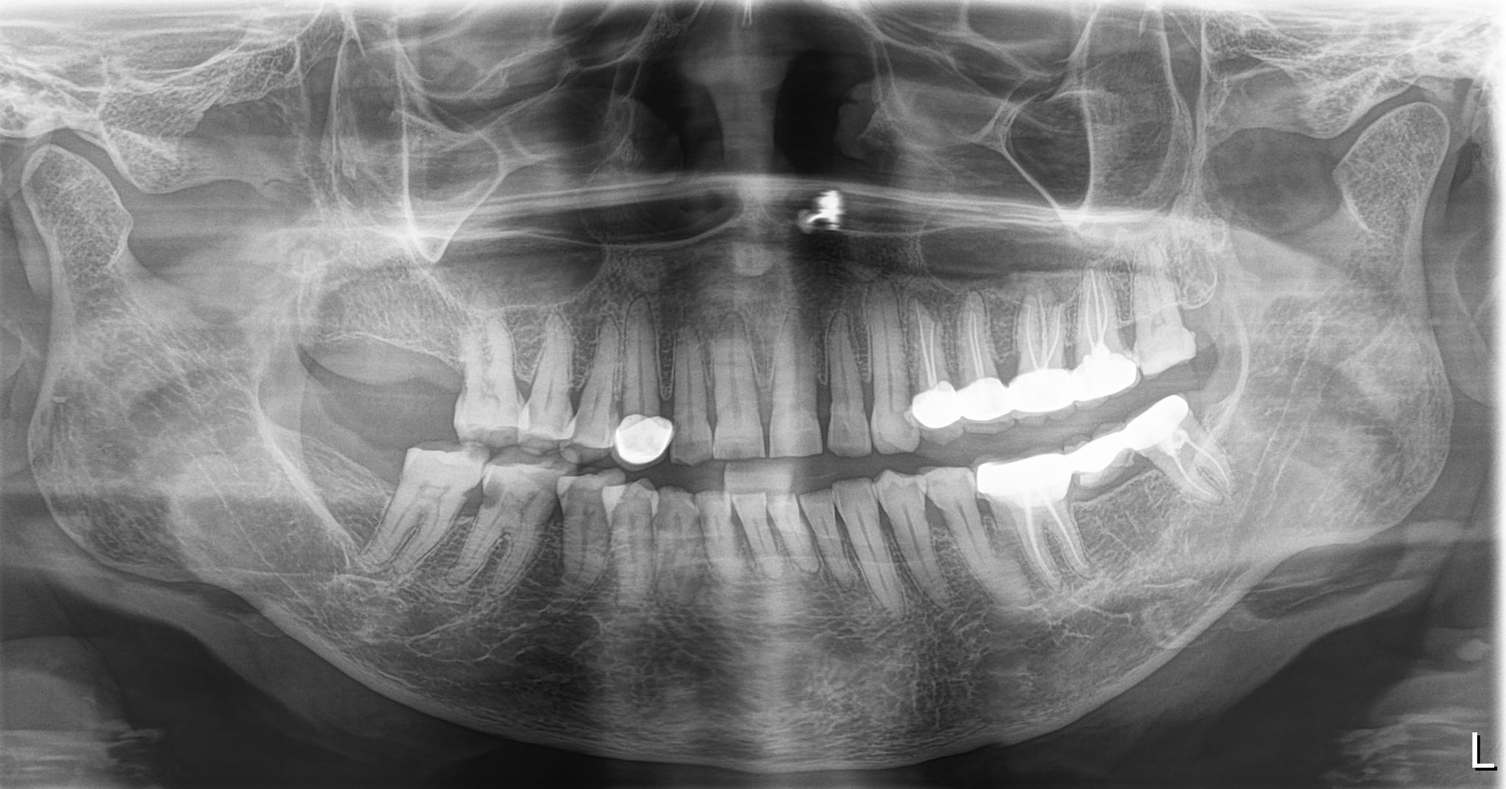Endodontically Treated Tooth: (969, 467, 1080, 601), (1132, 408, 1255, 468), (961, 296, 1013, 426), (1077, 287, 1133, 405), (906, 313, 954, 437), (1024, 289, 1068, 411)
Missing Tooth: (1081, 460, 1170, 596), (301, 320, 360, 426), (336, 450, 393, 555), (373, 322, 417, 420)
